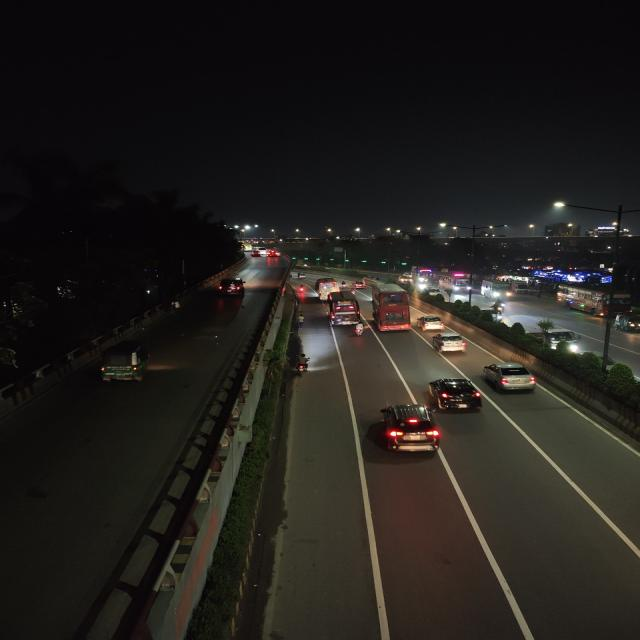bus: (555, 284, 634, 318), (369, 286, 414, 334), (324, 292, 362, 326), (479, 277, 512, 300), (442, 272, 472, 292), (315, 277, 338, 302), (413, 268, 438, 290)
car: (372, 402, 444, 456), (426, 375, 486, 413), (481, 360, 539, 396), (430, 332, 470, 355), (215, 276, 248, 296), (416, 313, 447, 331), (352, 280, 368, 290), (251, 249, 264, 258), (266, 250, 278, 258)
cng: (96, 339, 154, 385), (610, 312, 640, 334)
motorcycle: (291, 351, 312, 377), (491, 298, 510, 316), (351, 321, 366, 338), (295, 284, 308, 295)
pedestrian: (296, 314, 306, 332)
